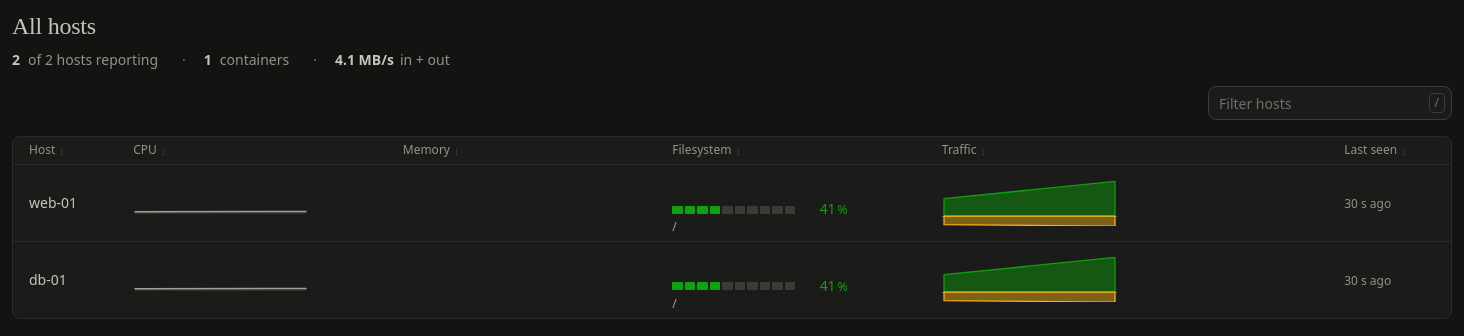
Test: FleetPage toolbar › filters the list by what the tab is showing
Type "db" into the search field with placeholder "Filter hosts" at [1330, 104], box left=1208, top=86, right=1452, bottom=120
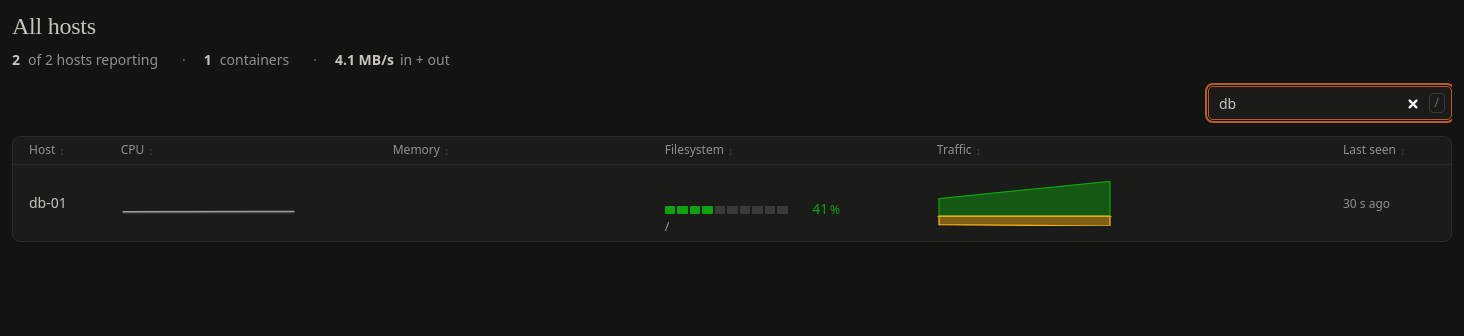
Check: the link "db-01" is shown, box left=29, top=192, right=67, bottom=214
Check: the link "web-01" is gone
